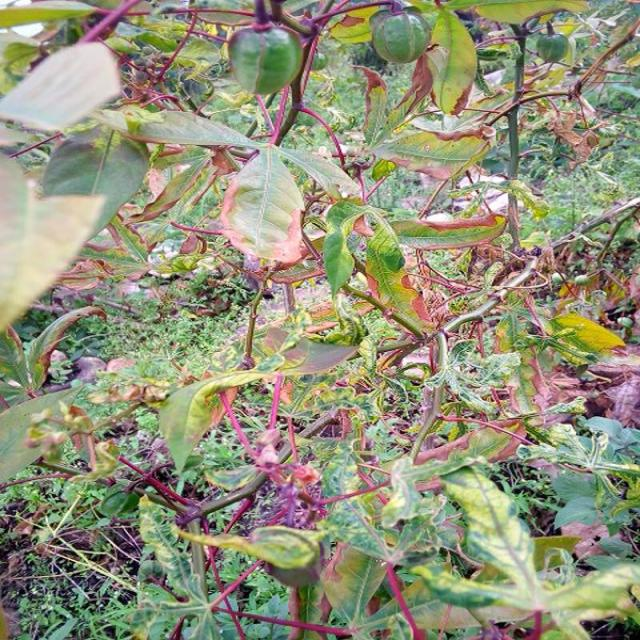cassava leaf: (2, 40, 122, 134), (221, 144, 306, 265), (228, 21, 304, 96)
